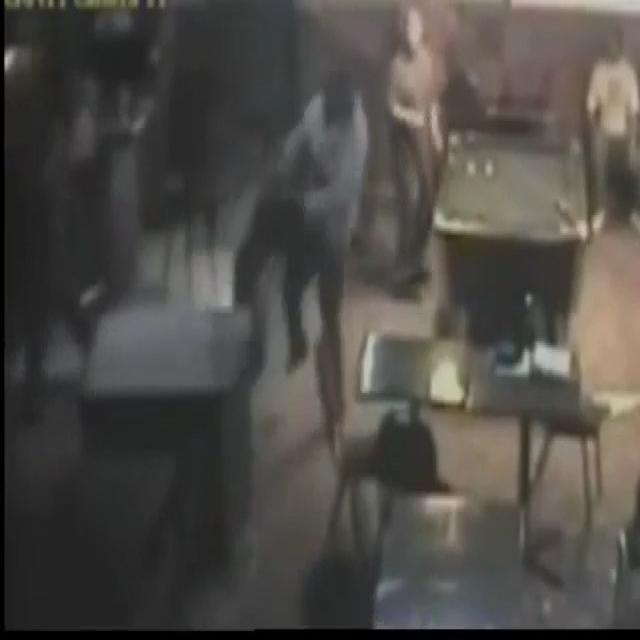fight: (237, 69, 368, 452)
